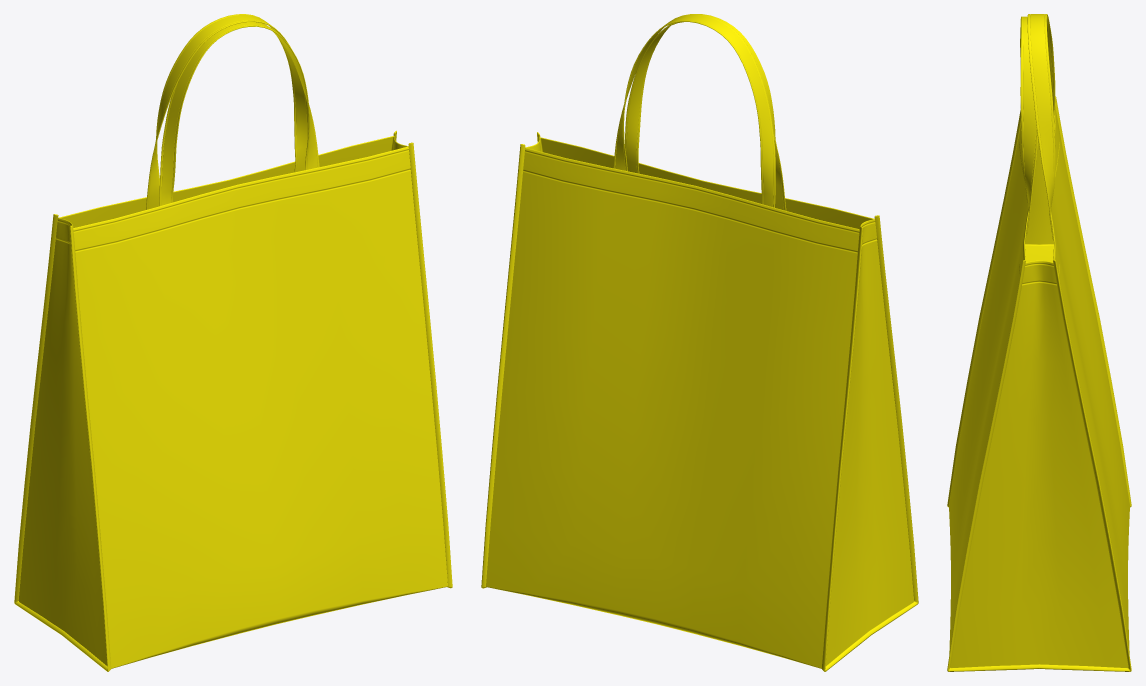
File: bag_2.glb
3 views of the same model, side by side, from view 1: azimuth 30°, elevation 25°; view 2: azimuth 150°, elevation 25°; view 3: azimuth 270°, elevation 25° (orthographic).
Visible parts, largest first — view 1: node_id101; view 2: node_id101; view 3: node_id101.
Part boxes in pixels (box(x1,y1,x2,y2)): node_id101: box(14, 14, 452, 671); node_id101: box(481, 14, 918, 671); node_id101: box(947, 14, 1131, 671).
Size of the model in its own units: 0.3194 by 0.512 by 0.1506.
Materials: 1 (1 with a texture image).
